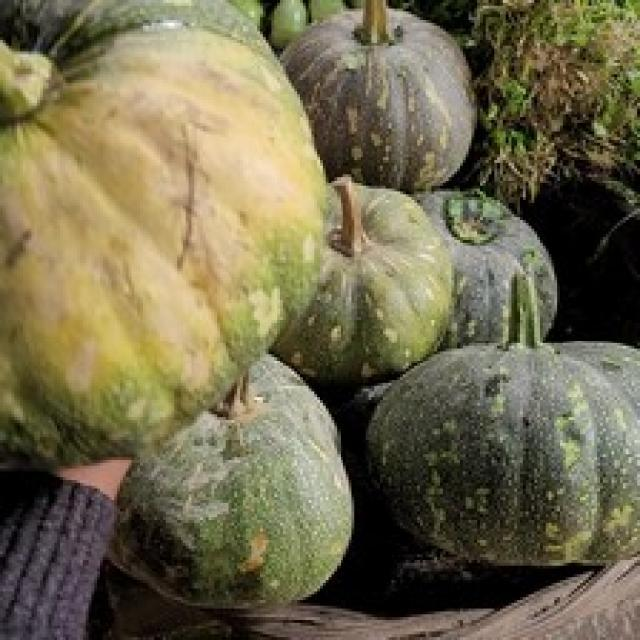Pumpkin: (0, 40, 377, 466), (402, 283, 630, 604), (272, 0, 534, 192)
